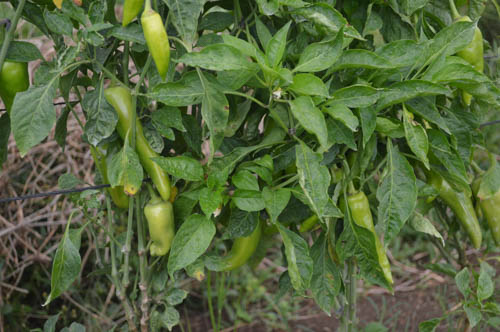ChiliPepper: (108, 87, 171, 200), (342, 193, 391, 278), (437, 177, 483, 247), (139, 15, 174, 73), (141, 204, 179, 255), (227, 221, 262, 274)
